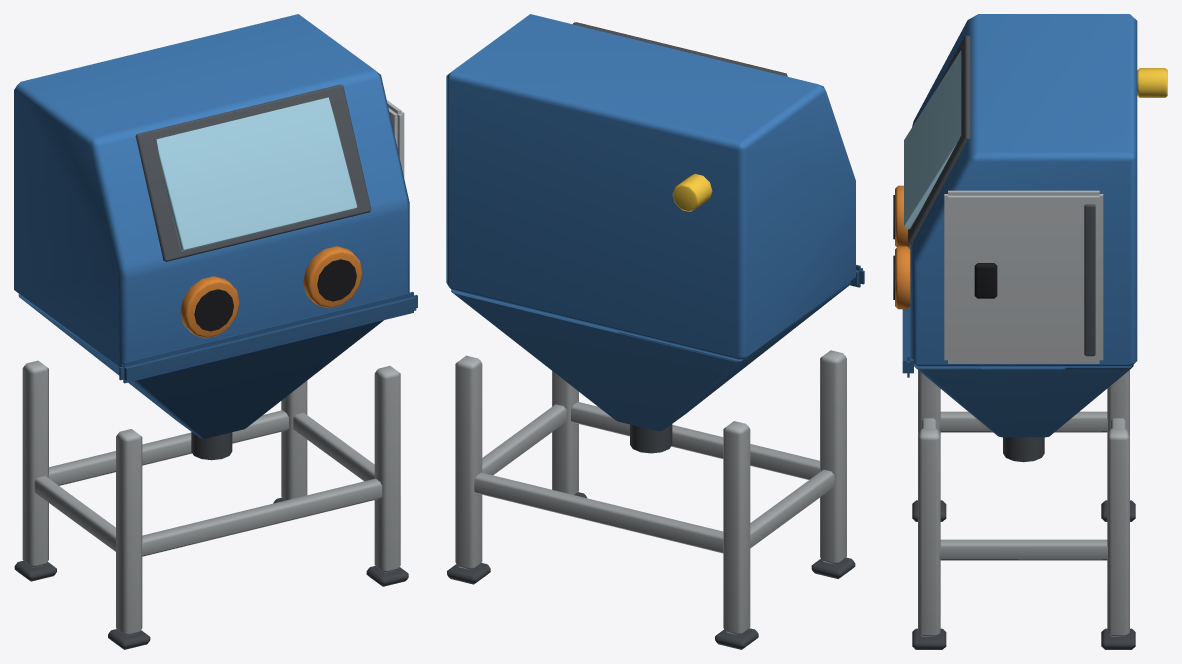
Rendered from SM_SandblastCabinet_01.glb.
3 views of the same model, side by side, from view 1: azimuth 30°, elevation 25°; view 2: azimuth 150°, elevation 25°; view 3: azimuth 270°, elevation 25° (orthographic). The views are drawn at different scales.
Visible parts, largest first — view 1: SM_SandblastCabinet_01; view 2: SM_SandblastCabinet_01; view 3: SM_SandblastCabinet_01.
Part boxes in pixels (box(x1,y1,x2,y2)): SM_SandblastCabinet_01: box(14, 14, 417, 649); SM_SandblastCabinet_01: box(446, 14, 864, 649); SM_SandblastCabinet_01: box(893, 14, 1167, 649).
Size of the model in its own units: 0.96 by 1.45 by 0.725.
1 material, 1 textured.
